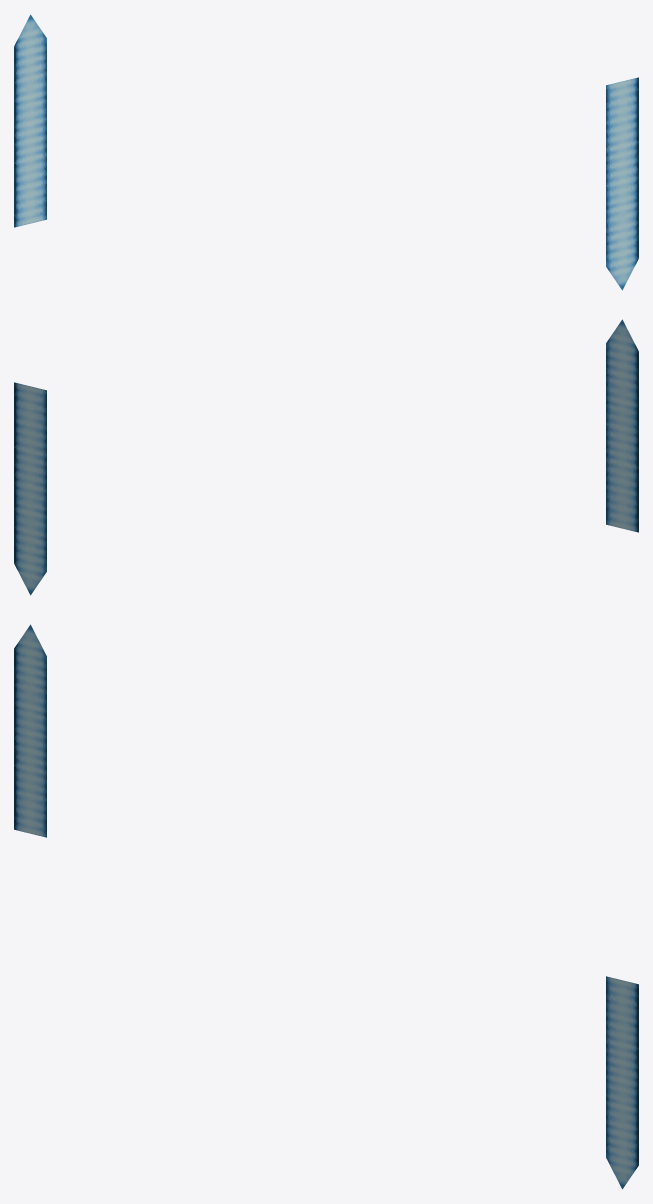
Rendered from xwing_engine_pos_s02_on_l2.fbx.
3 renders of one model, top to bottom at view 1: azimuth 30°, elevation 25°; view 2: azimuth 150°, elevation 25°; view 3: azimuth 330°, elevation 25°, orthographic.
Parts seen in each view (by area): view 1: mesh_node; view 2: mesh_node; view 3: mesh_node.
Part boxes in pixels (x1=…): mesh_node: x1=14, y1=14, x2=638, y2=290; mesh_node: x1=14, y1=319, x2=638, y2=595; mesh_node: x1=14, y1=624, x2=638, y2=1189.
Bounding box in the file's own units: 3.67 × 2.36 × 3.43e-05.
